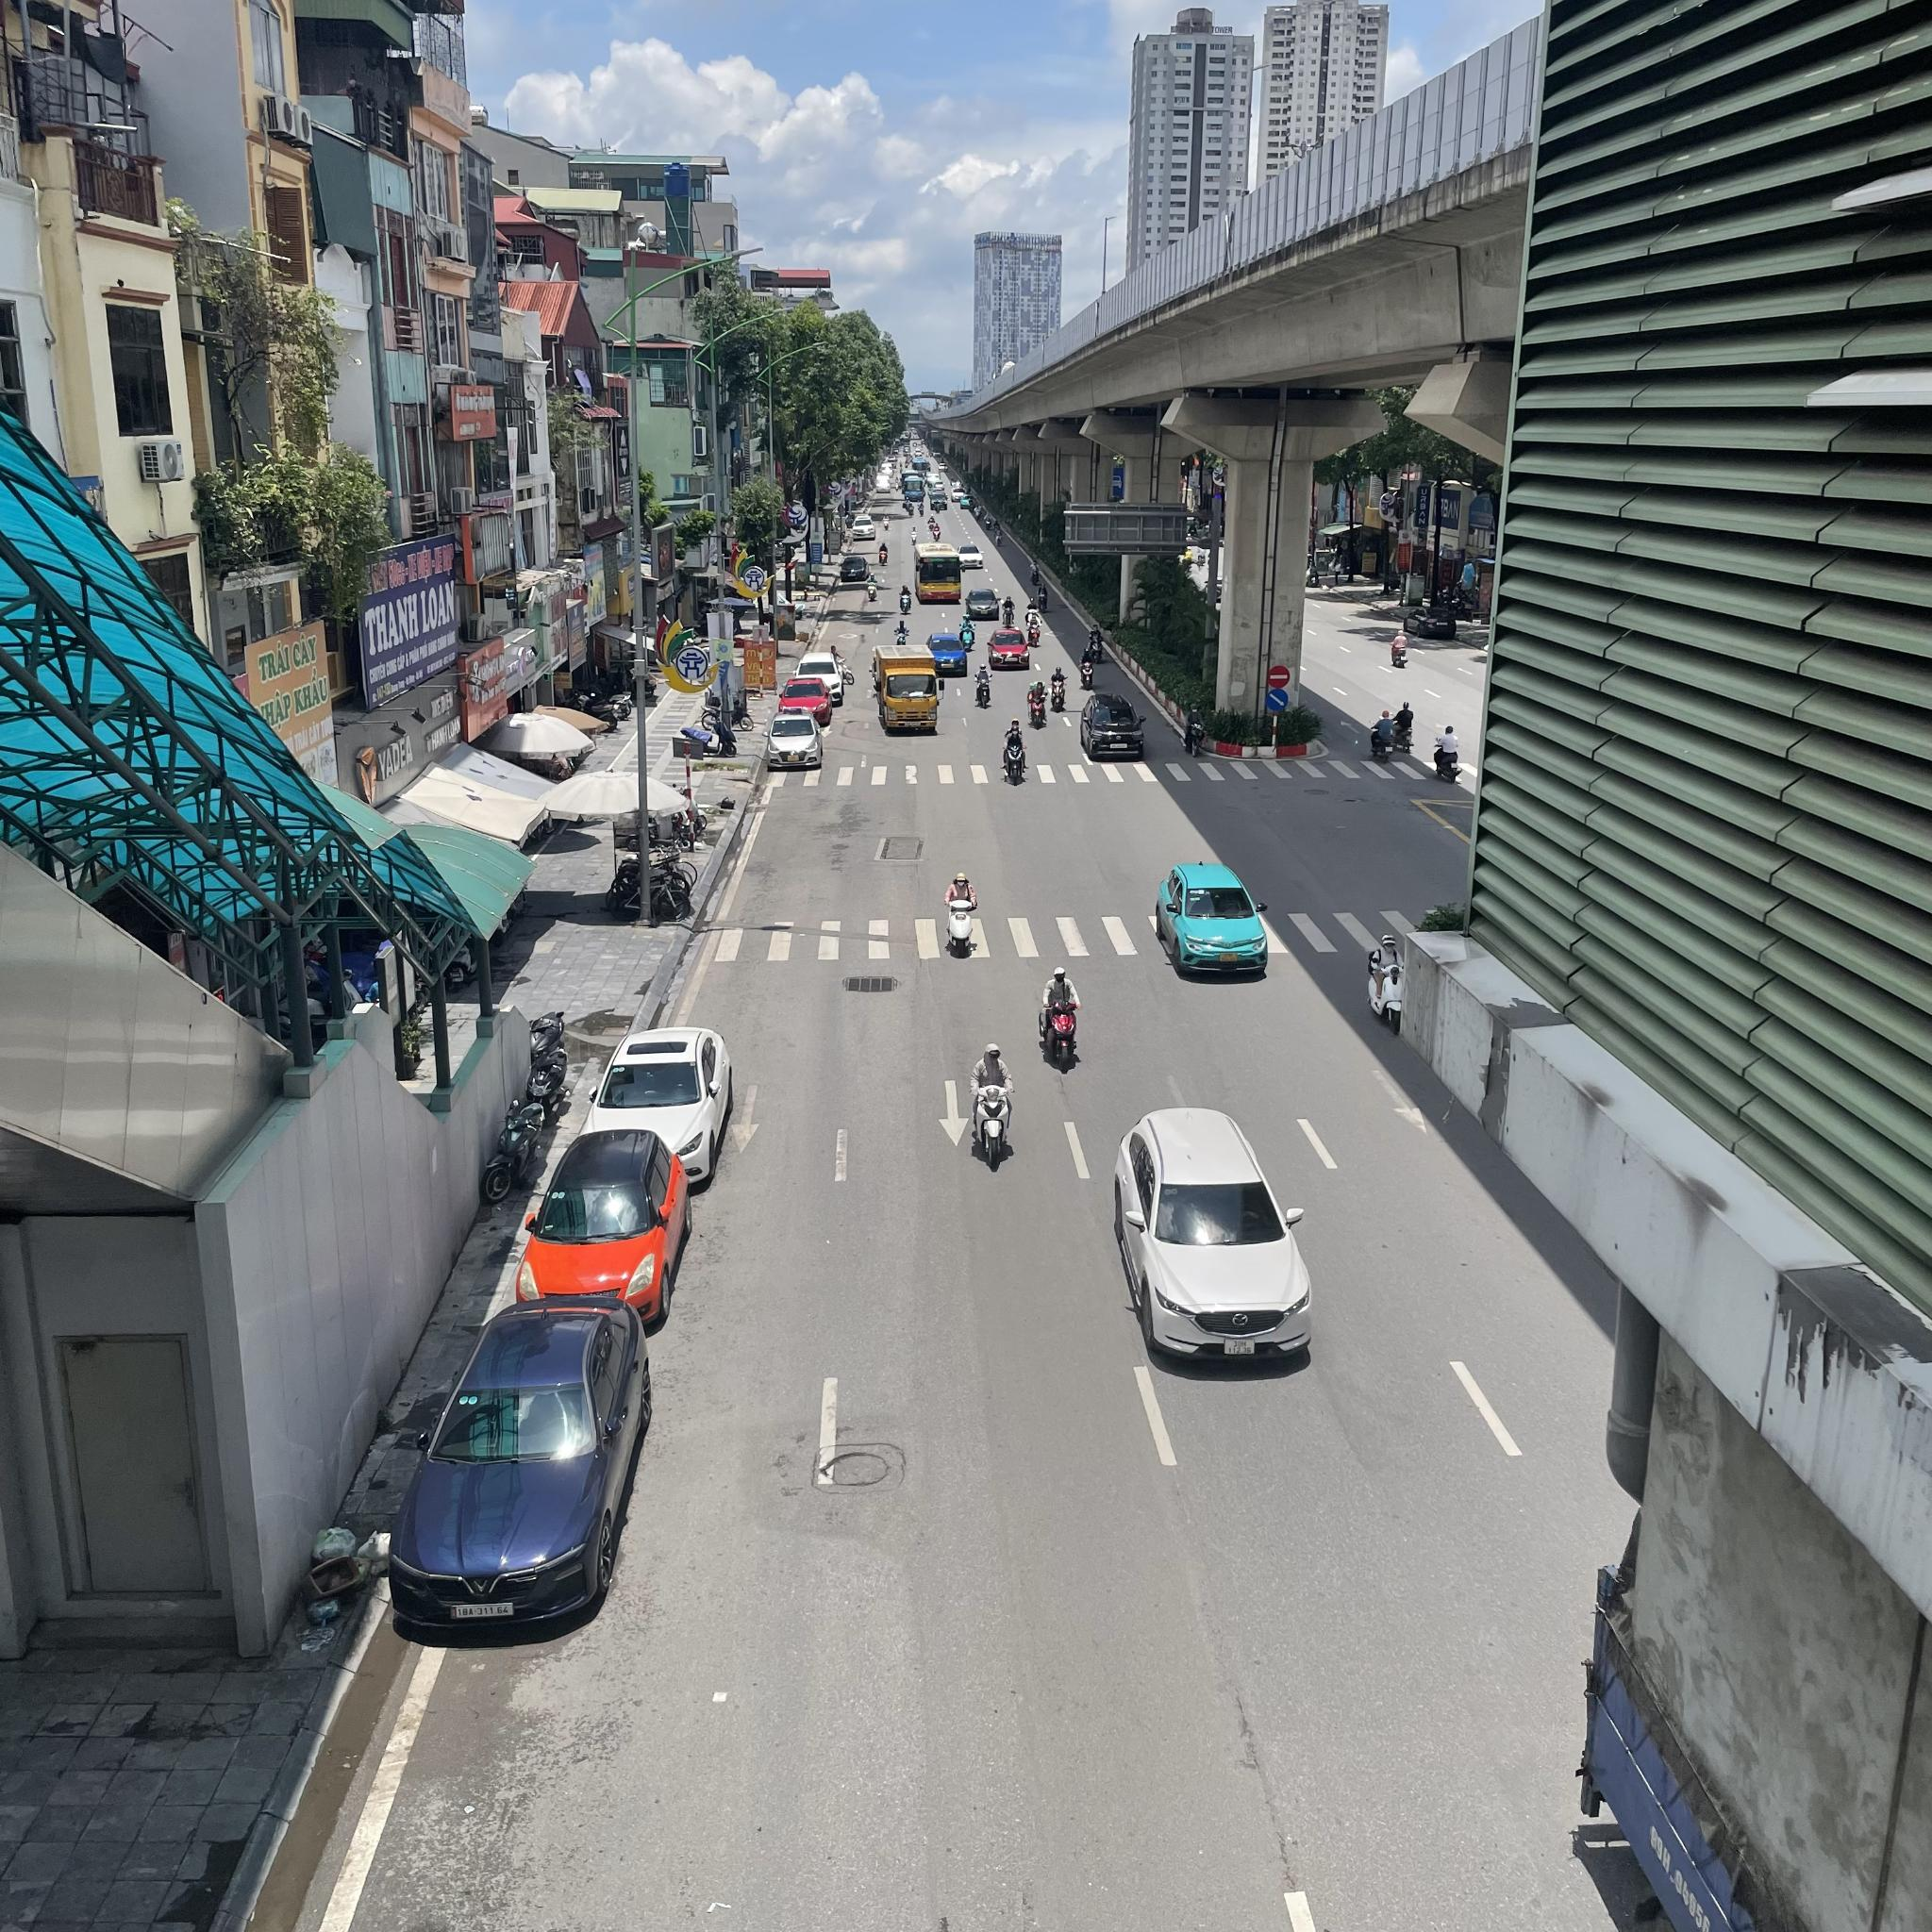car: (385, 1292, 666, 1644), (1105, 1112, 1320, 1376), (523, 1137, 691, 1338), (587, 1025, 722, 1193), (1143, 857, 1282, 991), (877, 641, 940, 735), (1079, 691, 1150, 763), (763, 714, 824, 764), (915, 545, 959, 602), (797, 654, 844, 703), (785, 676, 831, 722), (989, 627, 1028, 671), (928, 635, 970, 675), (966, 588, 1000, 622), (958, 543, 984, 570)
motobike: (968, 1042, 1021, 1172), (940, 876, 992, 973), (1041, 965, 1088, 1074), (1371, 927, 1407, 1031), (999, 720, 1034, 783), (1185, 705, 1206, 760), (1026, 681, 1048, 726), (1051, 666, 1065, 711), (1077, 654, 1094, 689), (959, 615, 975, 651), (1087, 628, 1105, 658), (976, 665, 990, 703), (1027, 615, 1043, 643), (901, 584, 911, 614), (1028, 560, 1043, 581), (867, 575, 879, 599), (1038, 587, 1049, 611), (894, 622, 908, 641), (879, 541, 889, 563), (1006, 593, 1011, 625)
